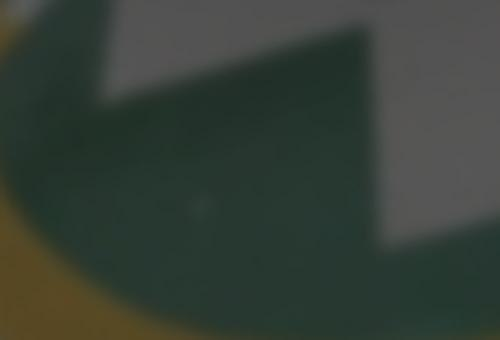Apron: (1, 1, 499, 336)
